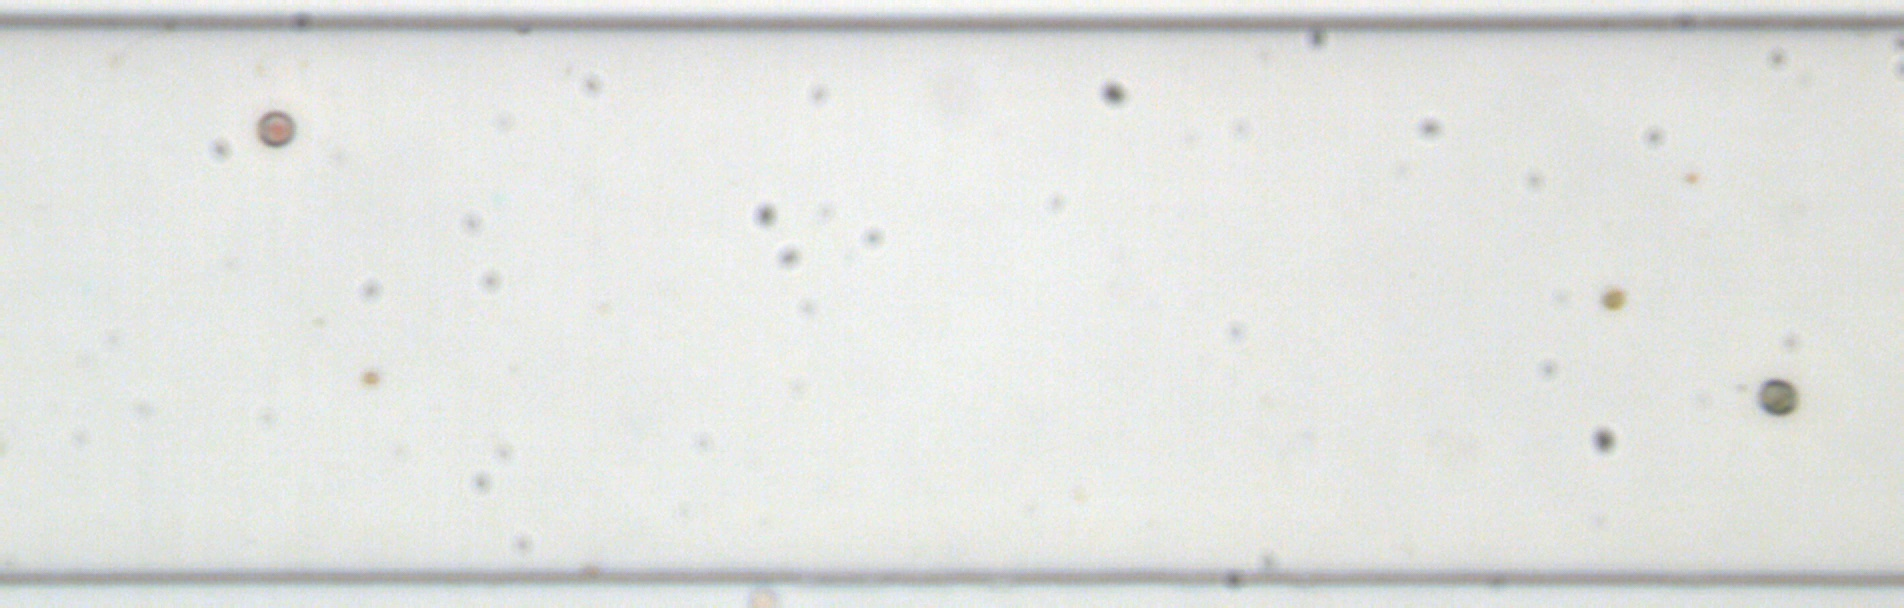Chlorella: (1600, 286, 1627, 312), (359, 366, 382, 390), (1683, 167, 1702, 187)
Effrenium: (1755, 376, 1798, 416)
Porphyridium: (253, 107, 295, 149)
